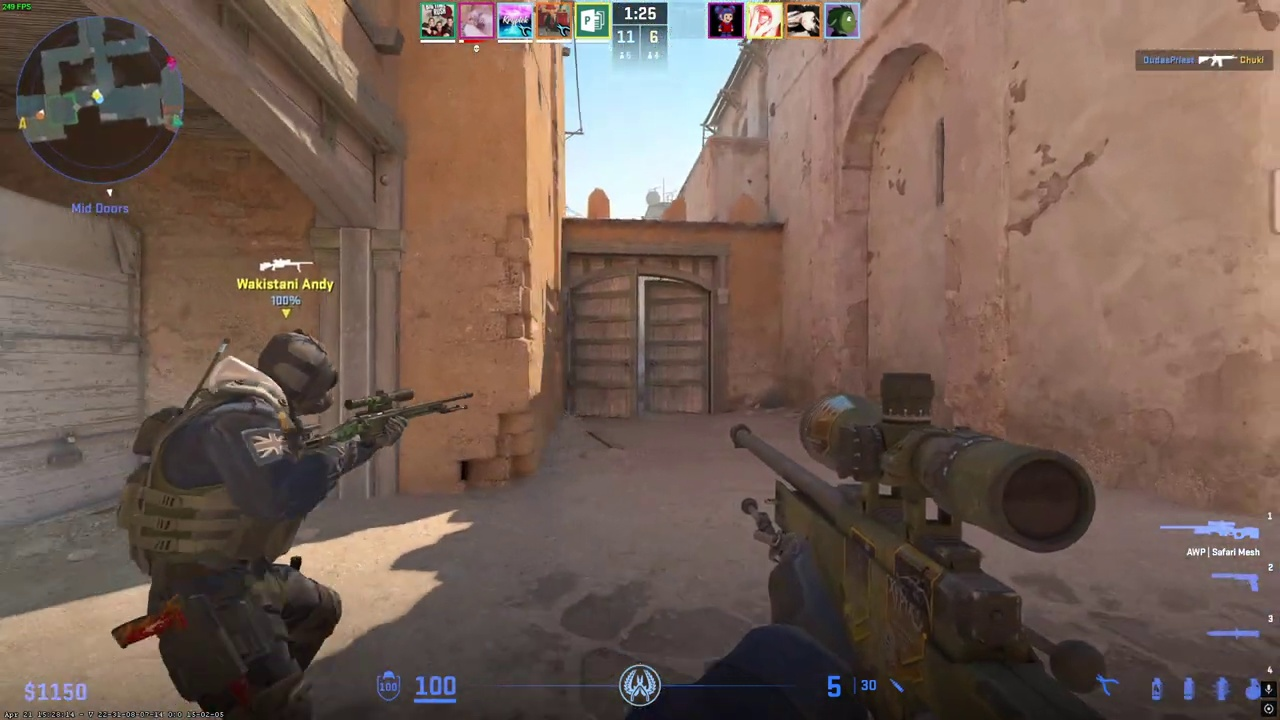CT: (131, 334, 362, 717)
